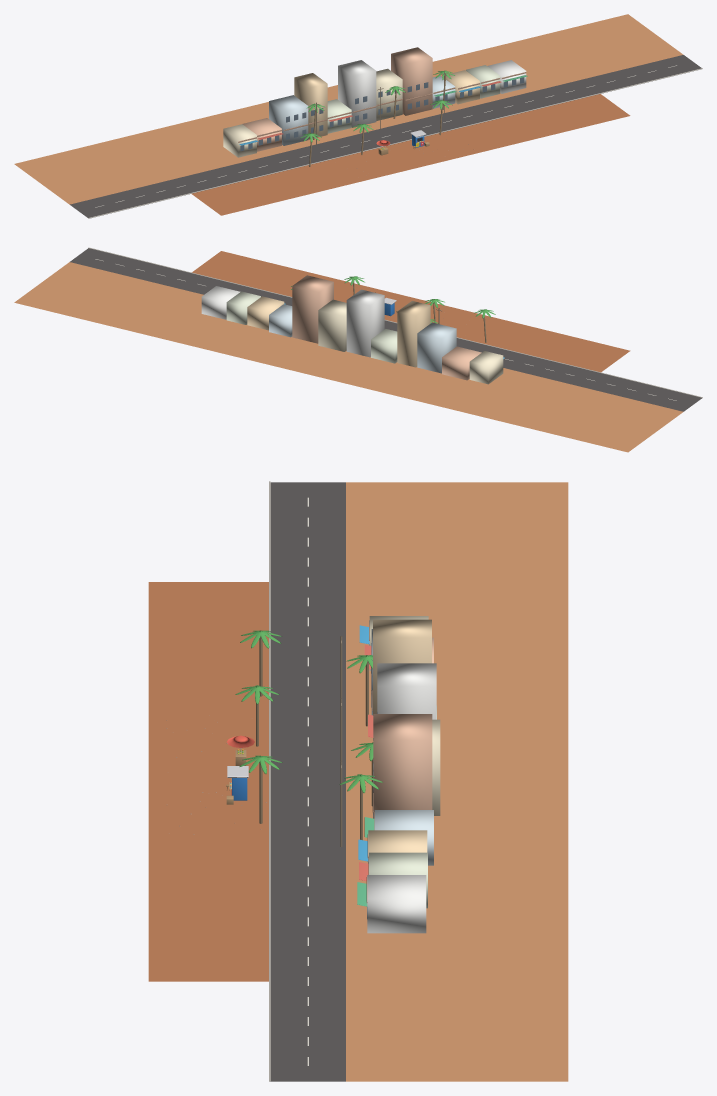
The model's file is decor.fbx.
The picture shows the model from 3 angles, top to bottom: view 1: azimuth 30°, elevation 25°; view 2: azimuth 150°, elevation 25°; view 3: azimuth 270°, elevation 25°; orthographic projection. The views are drawn at different scales.
Visible parts, largest first — view 1: TROTTOIR_FACE, TROTTOIR, ROUTE, IMMEUBLE_7_corps, IMMEUBLE_5_corps, IMMEUBLE_2_corps, IMMEUBLE_3_corps, IMMEUBLE_6_corps, BORDURE, IMMEUBLE_0_corps, IMMEUBLE_11_corps, IMMEUBLE_9_corps (+4 smaller); view 2: TROTTOIR_FACE, TROTTOIR, ROUTE, IMMEUBLE_5_corps, IMMEUBLE_7_corps, IMMEUBLE_3_corps, IMMEUBLE_2_corps, IMMEUBLE_6_corps, IMMEUBLE_0_corps, IMMEUBLE_1_corps, IMMEUBLE_11_corps, IMMEUBLE_4_corps (+4 smaller); view 3: TROTTOIR_FACE, TROTTOIR, ROUTE, IMMEUBLE_7_corps, IMMEUBLE_11_corps, IMMEUBLE_5_corps, IMMEUBLE_3_corps, IMMEUBLE_8_corps, IMMEUBLE_10_corps, IMMEUBLE_9_corps, BORDURE.
Part boxes in pixels (<box>): TROTTOIR_FACE: <box>14,14,683,204</box>; TROTTOIR: <box>191,94,630,215</box>; ROUTE: <box>70,55,701,217</box>; IMMEUBLE_7_corps: <box>391,47,432,115</box>; IMMEUBLE_5_corps: <box>338,60,376,127</box>; IMMEUBLE_2_corps: <box>269,95,308,145</box>; IMMEUBLE_3_corps: <box>294,73,327,139</box>; IMMEUBLE_6_corps: <box>376,68,402,120</box>; BORDURE: <box>88,68,702,218</box>; IMMEUBLE_0_corps: <box>223,124,256,157</box>; IMMEUBLE_11_corps: <box>487,60,526,93</box>; IMMEUBLE_9_corps: <box>446,70,479,104</box>; TROTTOIR_FACE: <box>14,262,683,452</box>; TROTTOIR: <box>192,251,630,372</box>; ROUTE: <box>70,248,701,411</box>; IMMEUBLE_5_corps: <box>346,289,384,357</box>; IMMEUBLE_7_corps: <box>292,275,333,343</box>; IMMEUBLE_3_corps: <box>397,301,430,367</box>; IMMEUBLE_2_corps: <box>417,322,456,373</box>; IMMEUBLE_6_corps: <box>318,299,346,351</box>; IMMEUBLE_0_corps: <box>469,351,503,384</box>; IMMEUBLE_1_corps: <box>442,346,481,380</box>; IMMEUBLE_11_corps: <box>201,286,240,319</box>; IMMEUBLE_4_corps: <box>371,329,397,363</box>; TROTTOIR_FACE: <box>346,482,568,1081</box>; TROTTOIR: <box>148,582,268,981</box>; ROUTE: <box>270,482,345,1081</box>; IMMEUBLE_7_corps: <box>373,714,432,818</box>; IMMEUBLE_11_corps: <box>367,875,426,933</box>; IMMEUBLE_5_corps: <box>377,663,436,719</box>; IMMEUBLE_3_corps: <box>373,619,431,740</box>; IMMEUBLE_8_corps: <box>374,810,433,865</box>; IMMEUBLE_10_corps: <box>369,852,427,908</box>; IMMEUBLE_9_corps: <box>368,830,427,856</box>; BORDURE: <box>269,481,270,1081</box>.
Bounding box in the file's own units: 120 × 9.62 × 35.5.
